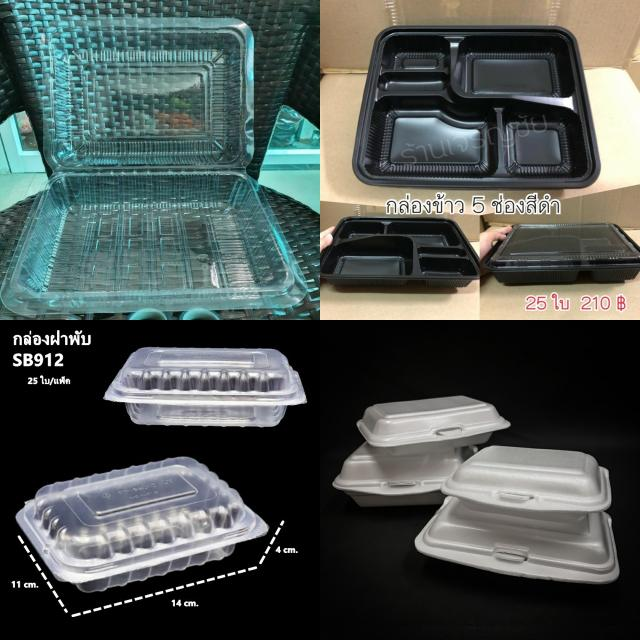Single-Use-Plastic: (1, 18, 306, 316), (352, 26, 600, 189), (18, 458, 268, 592), (415, 496, 619, 584), (104, 348, 306, 427), (441, 446, 611, 514), (321, 218, 479, 286), (481, 222, 640, 283), (332, 442, 476, 506), (358, 395, 510, 447)
